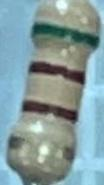Brown: (26, 58, 86, 86), (21, 98, 79, 124)
Green: (32, 22, 99, 49)
Side-Silver: (7, 133, 76, 164)
